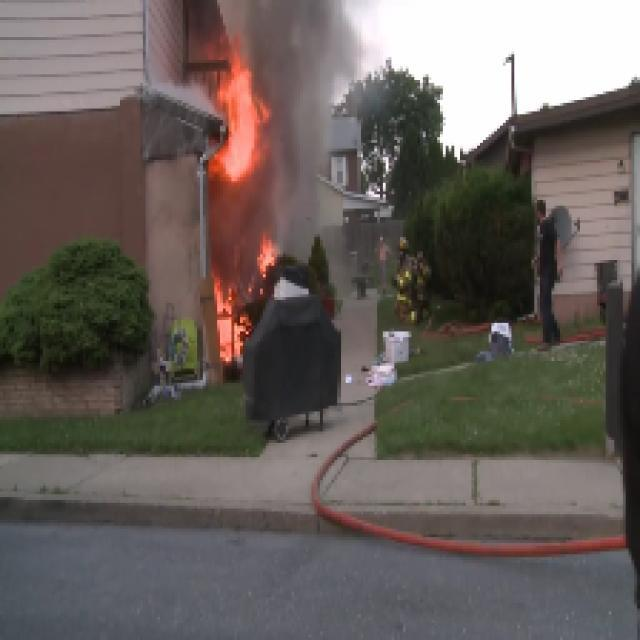Fire: (177, 46, 306, 374)
Smoke: (266, 0, 383, 269)
